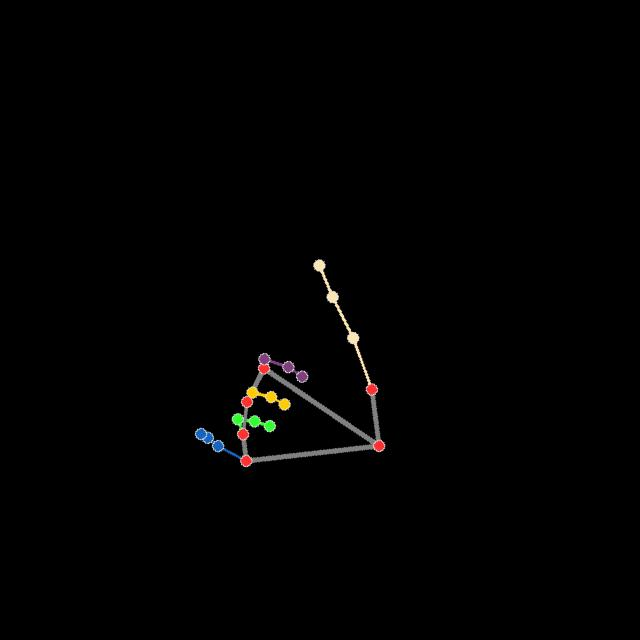skr: (189, 255, 391, 471)
